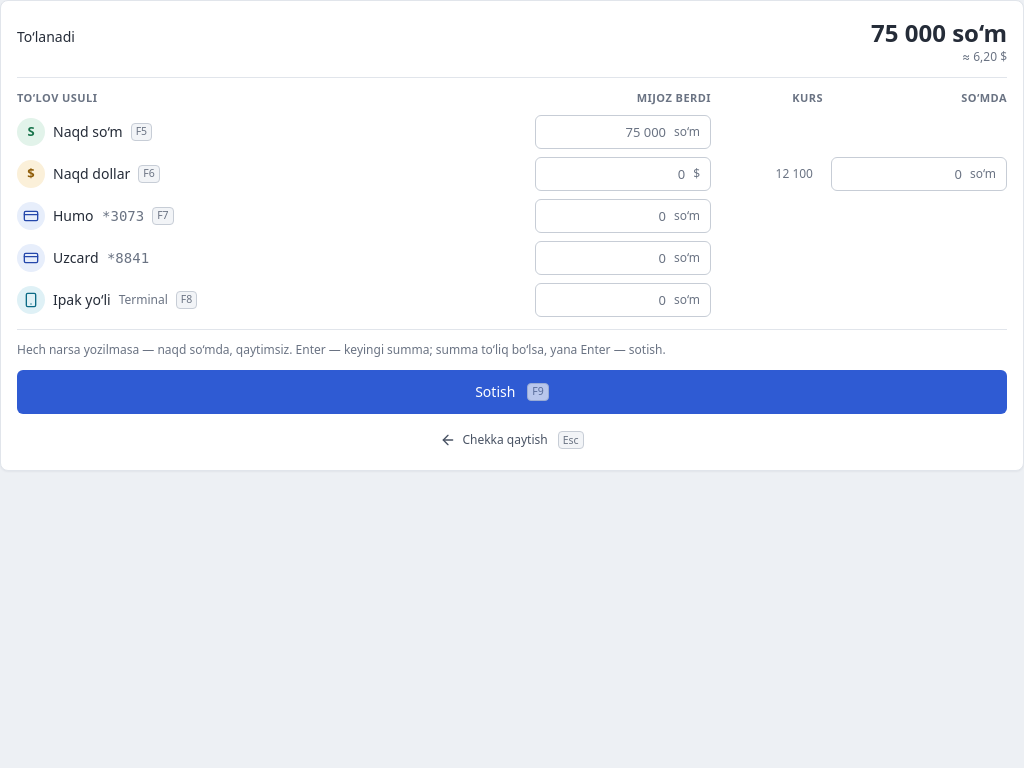
Scenario: the change › is cash in the base, with the other ways folded away until asked for
The width and height of the screenshot is (1024, 768).
Expected: the text "Qaytimni bo‘lish" is not shown
Type "100000" into the field with placeholder "75 000".
click(603, 132); type("100000")  # box [536, 116, 670, 148]
Then press Enter
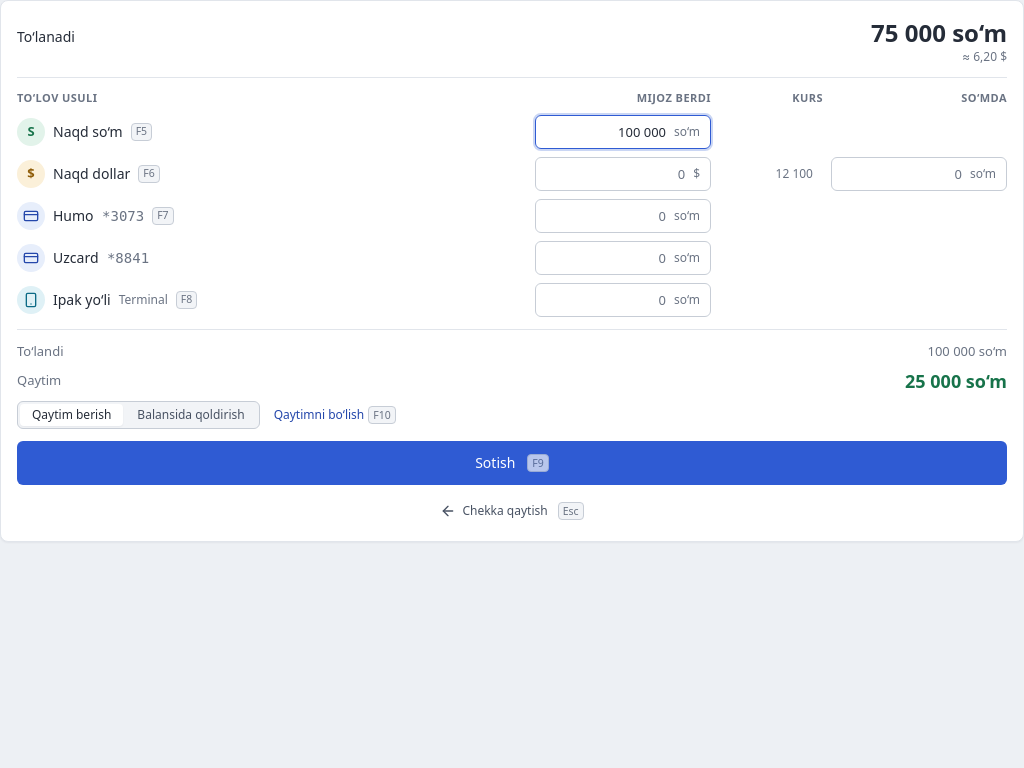
Click the button "Qaytimni bo‘lish F10".
click(335, 415)  # box [268, 404, 402, 426]
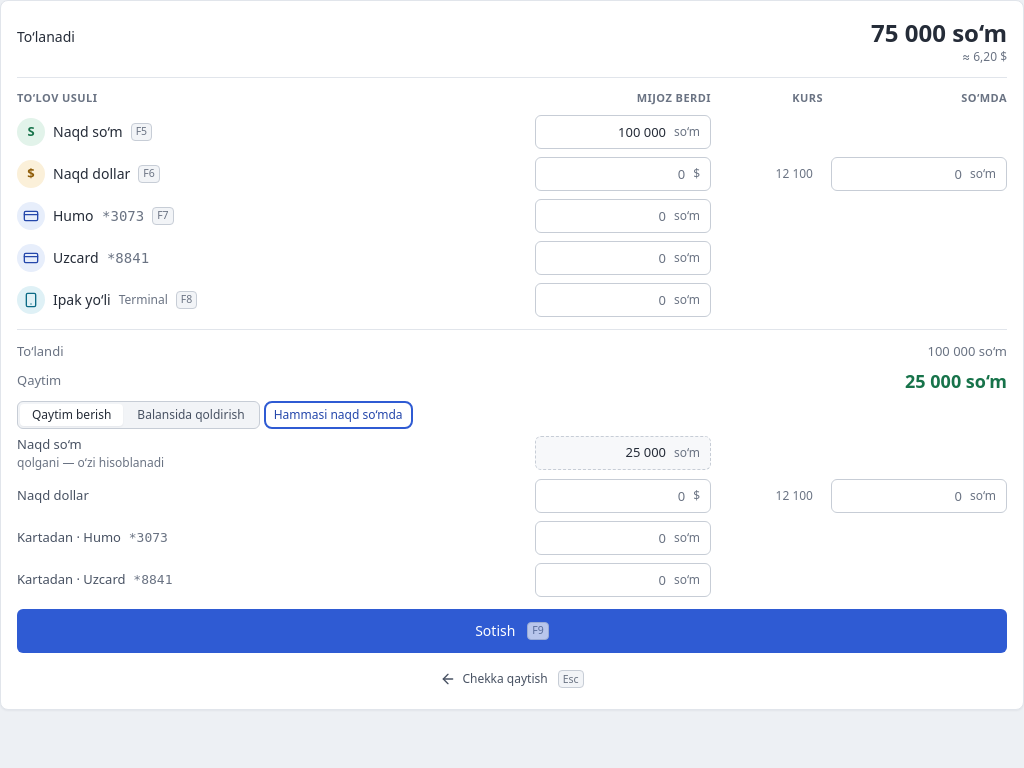
Result: the element showing "Naqd so‘m qolgani — o‘zi hisoblanadi 25 000 so‘m" is shown at [17, 435, 711, 470]
Result: the element showing "25 000 so‘m" is shown at [535, 436, 711, 470]
Type "5000" into the field with placeholder "0" in the row of "Kartadan · Humo".
click(603, 538); type("5000")  # box [536, 522, 670, 554]
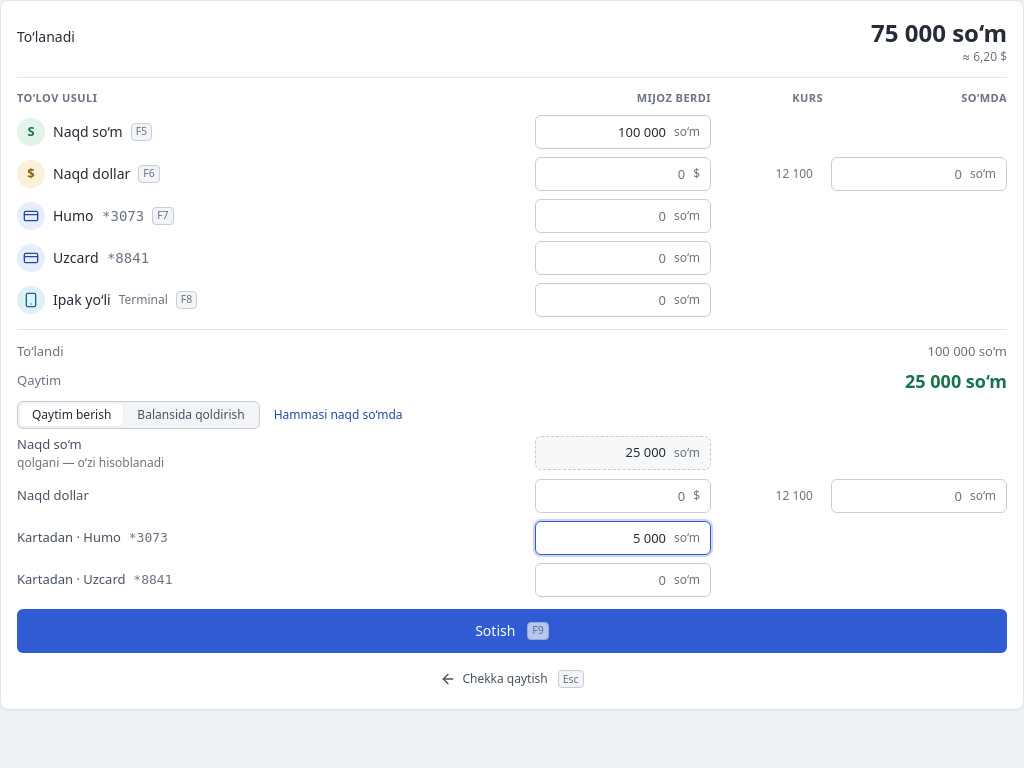
Press Tab
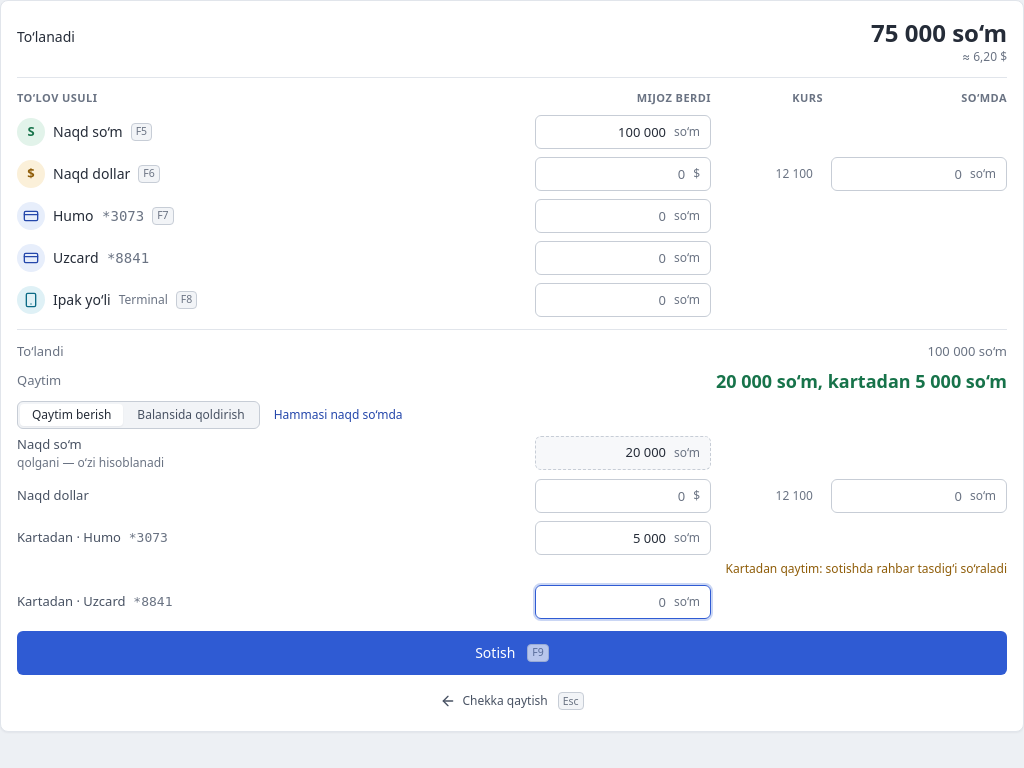
Result: the element showing "20 000 so‘m" is shown at [535, 436, 711, 470]
